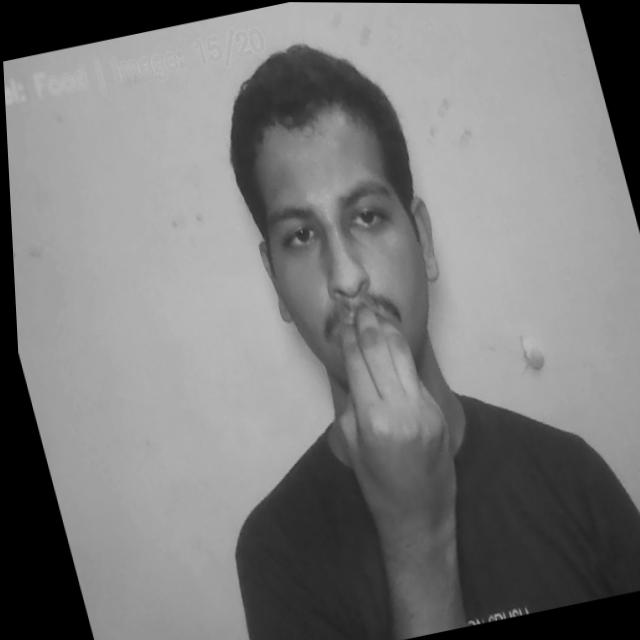Food: (303, 291, 471, 551)
